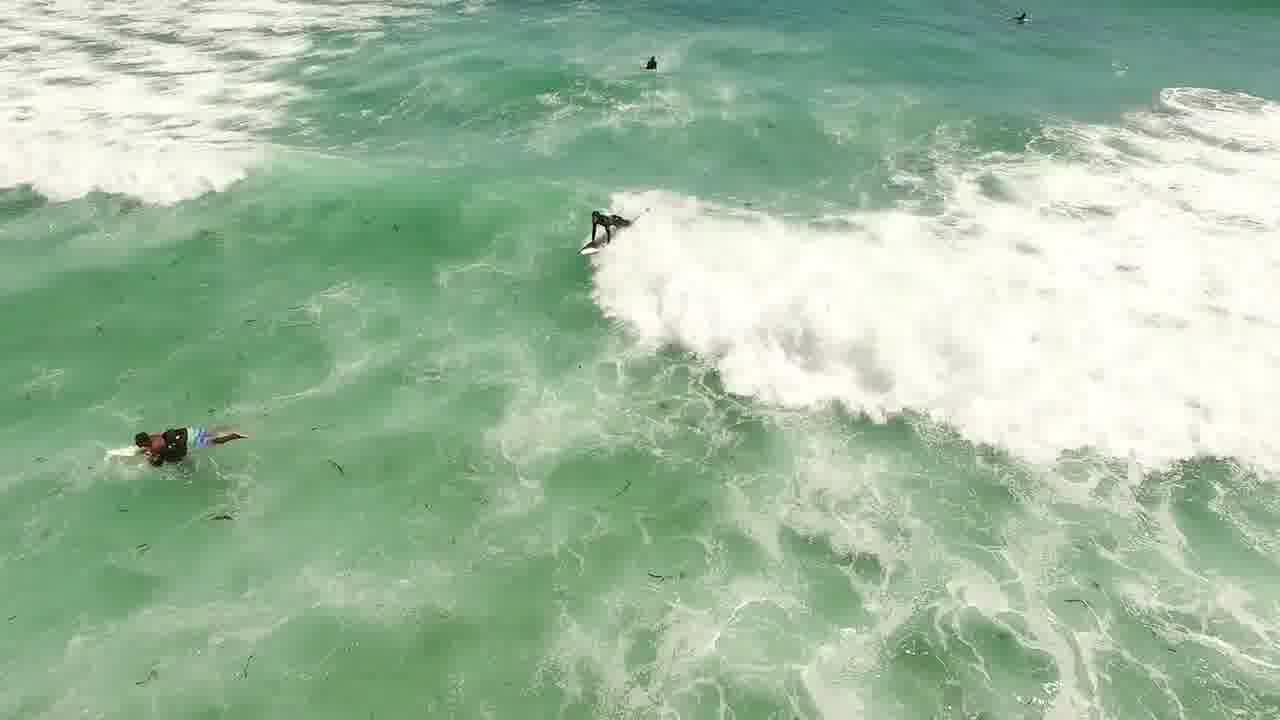human: (124, 418, 227, 478), (579, 191, 638, 243), (633, 45, 677, 80)
